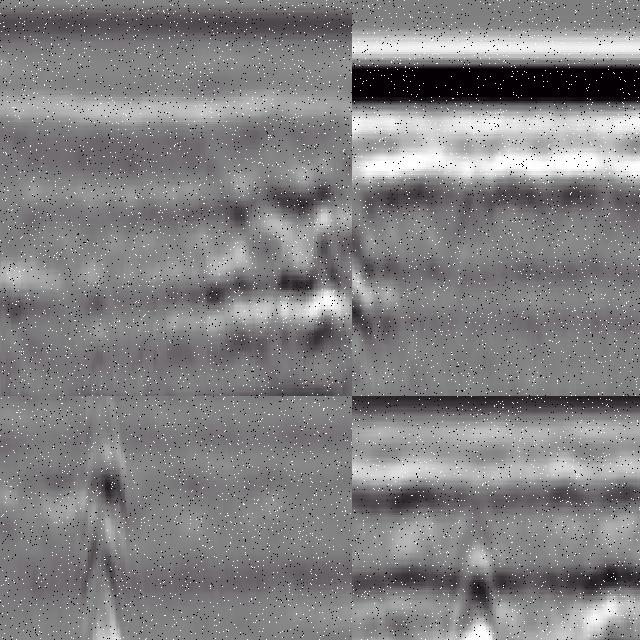crack: (79, 397, 130, 640)
loose: (189, 163, 353, 362), (418, 512, 640, 640), (353, 159, 462, 330)
